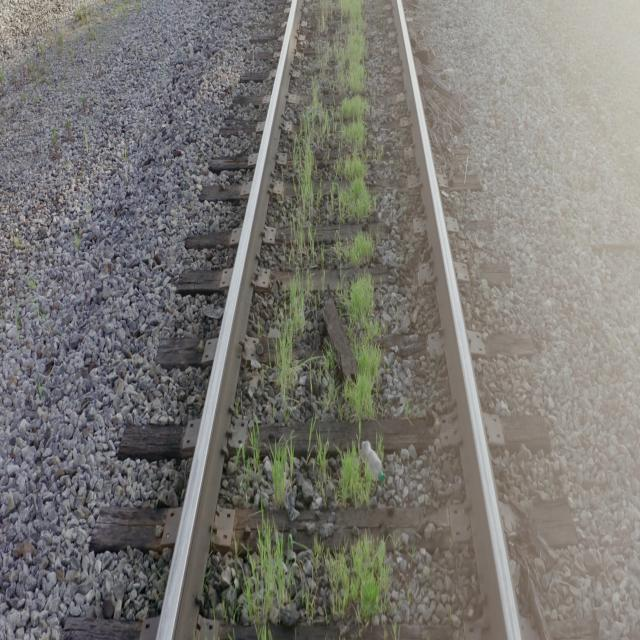Plant: (291, 0, 372, 231), (322, 276, 381, 422), (319, 533, 389, 624), (244, 518, 291, 638), (278, 284, 309, 409), (315, 444, 372, 507), (338, 231, 375, 267), (271, 444, 291, 507)
